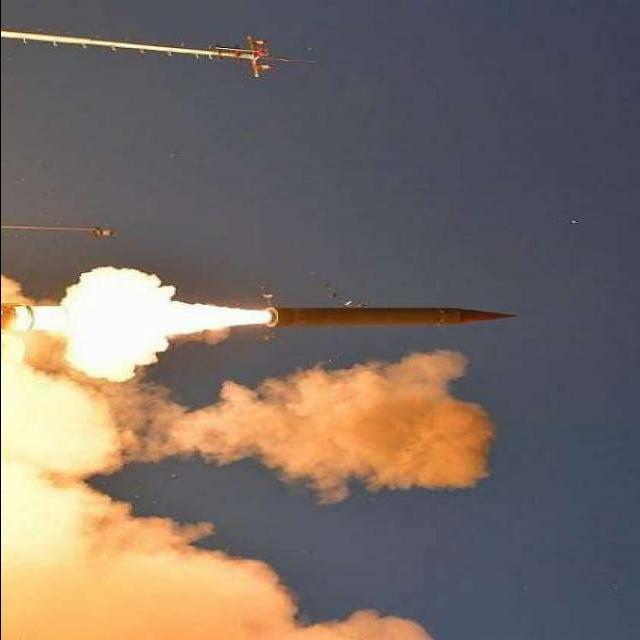Missile: (256, 304, 529, 330)
